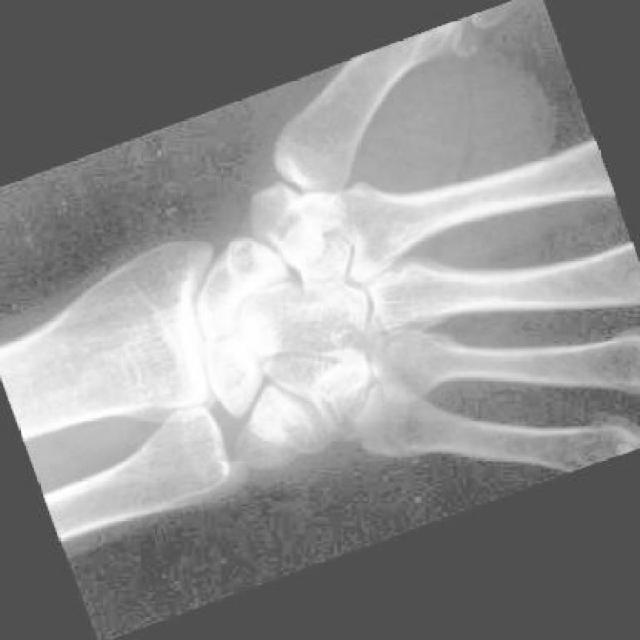Fracture: (311, 357, 402, 457)
